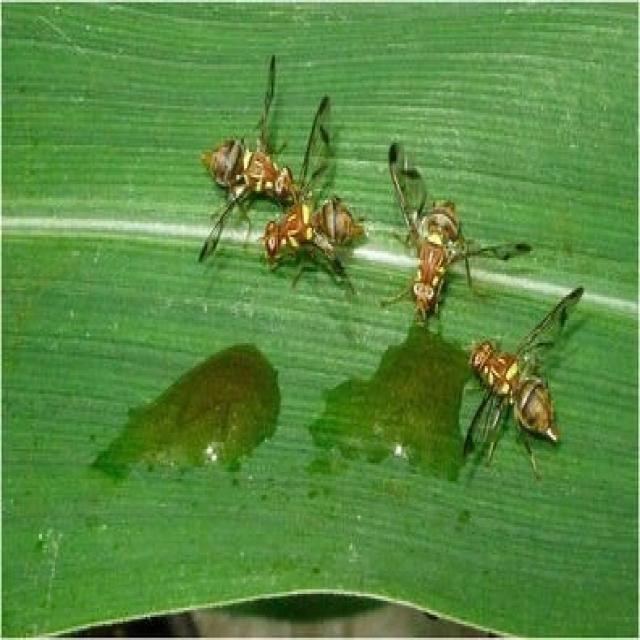Fruit fly: (191, 37, 374, 301), (374, 131, 538, 333), (457, 274, 598, 482)
